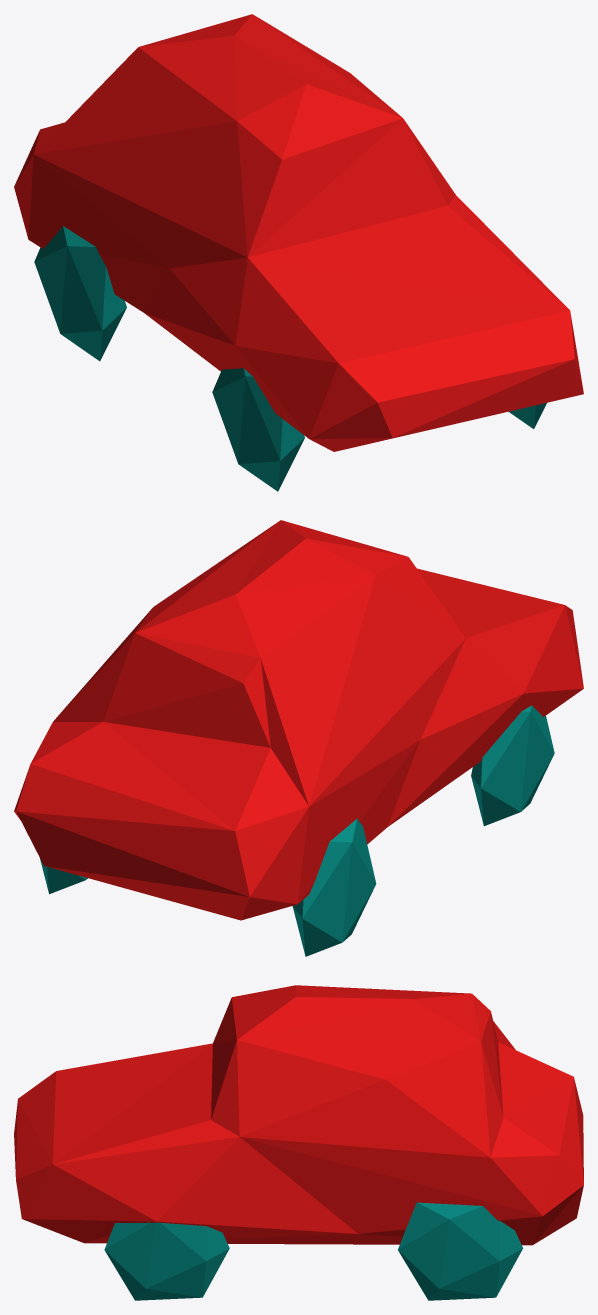
Rendered from Car.fbx.
3 views of the same model, one above another, from view 1: azimuth 30°, elevation 25°; view 2: azimuth 150°, elevation 25°; view 3: azimuth 270°, elevation 25° (orthographic). The views are drawn at different scales.
Visible parts, largest first — view 1: Cube; view 2: Cube; view 3: Cube.
Part boxes in pixels (box(x1,y1,x2,y2)): Cube: box(14, 14, 583, 491); Cube: box(14, 520, 583, 956); Cube: box(14, 985, 583, 1300).
Size of the model in its own units: 486 by 487 by 1000.
